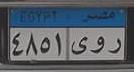1: (53, 33, 64, 58)
4: (10, 31, 23, 58)
5: (39, 35, 51, 56)
8: (25, 30, 38, 57)
raa: (107, 37, 122, 56)
waw: (89, 34, 105, 57)
yaa: (69, 34, 88, 58)
